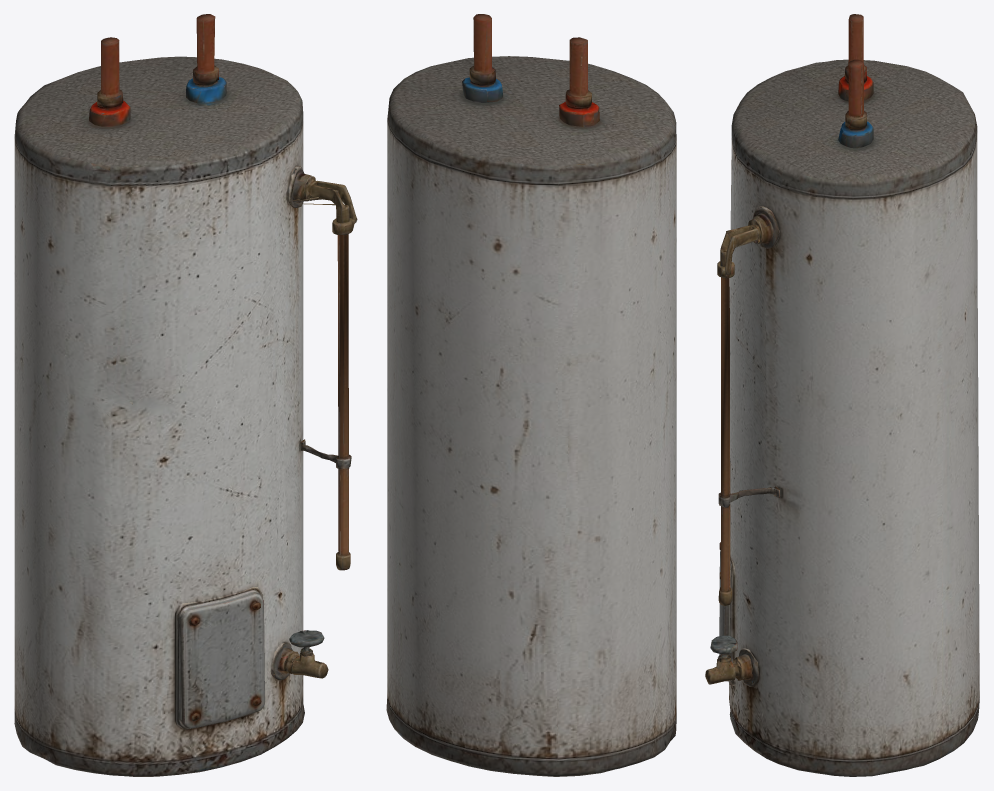
Rendered from p7-water-heater-tank-t25.glb.
3 renders of one model, left to right at view 1: azimuth 30°, elevation 25°; view 2: azimuth 150°, elevation 25°; view 3: azimuth 270°, elevation 25°, orthographic. The views are drawn at different scales.
Visible parts, largest first — view 1: p7-water-heater-tank-t25; view 2: p7-water-heater-tank-t25; view 3: p7-water-heater-tank-t25.
Boxes of the visible parts, x1,y1,x2,y2 form: p7-water-heater-tank-t25: (14, 14, 357, 776); p7-water-heater-tank-t25: (386, 14, 676, 776); p7-water-heater-tank-t25: (705, 14, 979, 776).
Bounding box in the file's own units: 0.6 × 1.5 × 0.552.
1 material, 1 textured.
